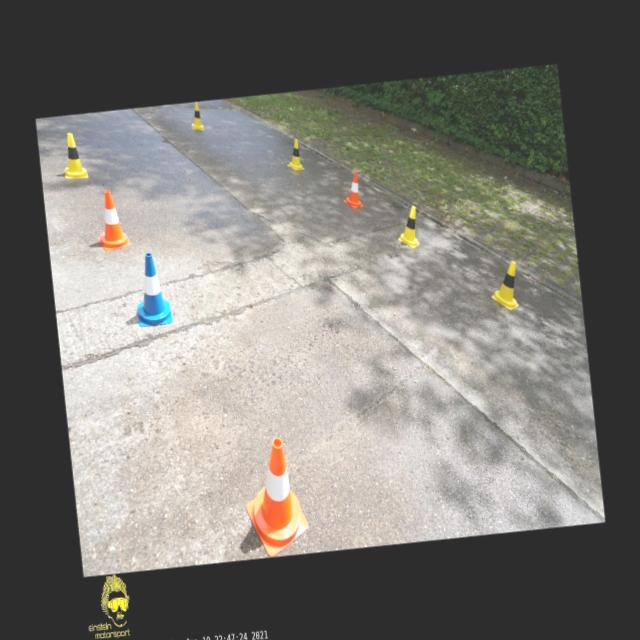blue_cone: (131, 250, 172, 326)
orange_cone: (238, 434, 311, 558), (93, 188, 131, 251), (340, 170, 363, 208)
yellow_cone: (488, 260, 520, 312), (61, 130, 88, 180), (395, 206, 420, 250), (284, 138, 304, 172), (189, 101, 204, 131)
